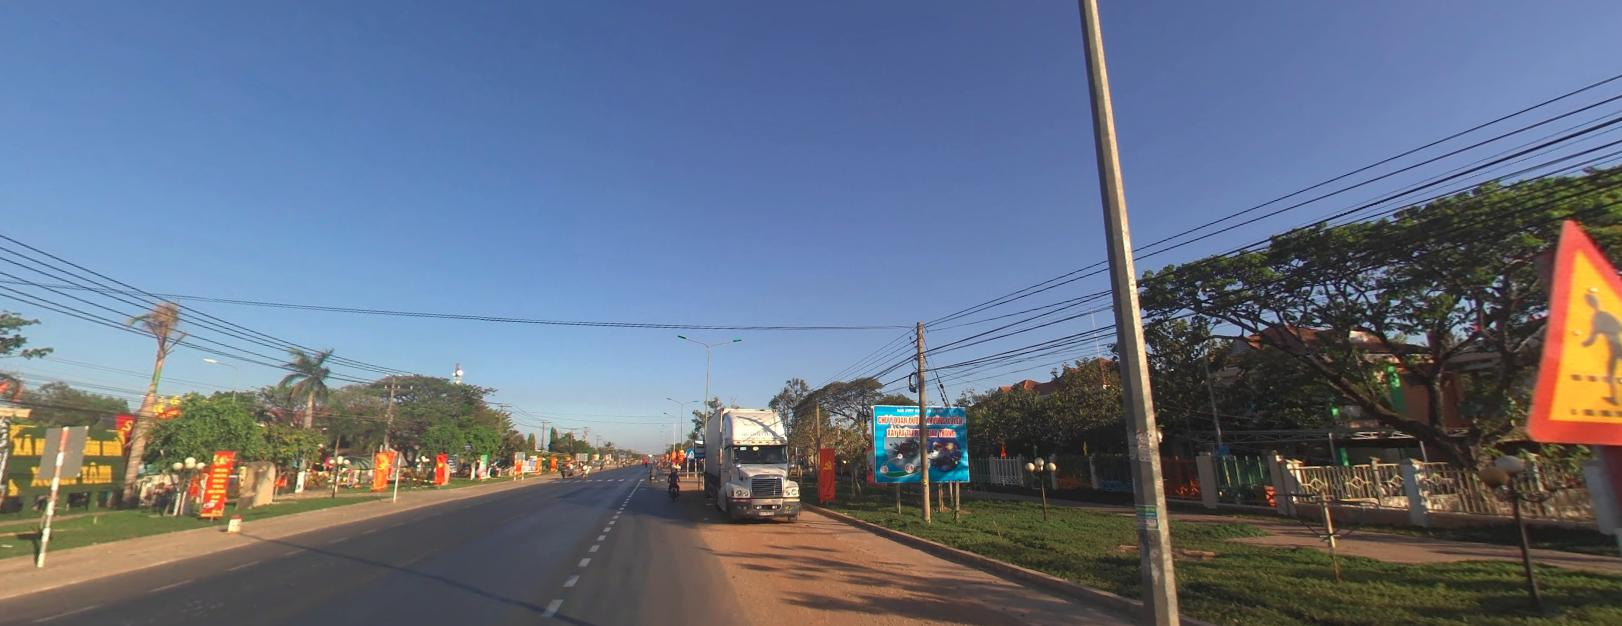Nguy hiem: (1519, 204, 1619, 448), (1521, 216, 1621, 449)
